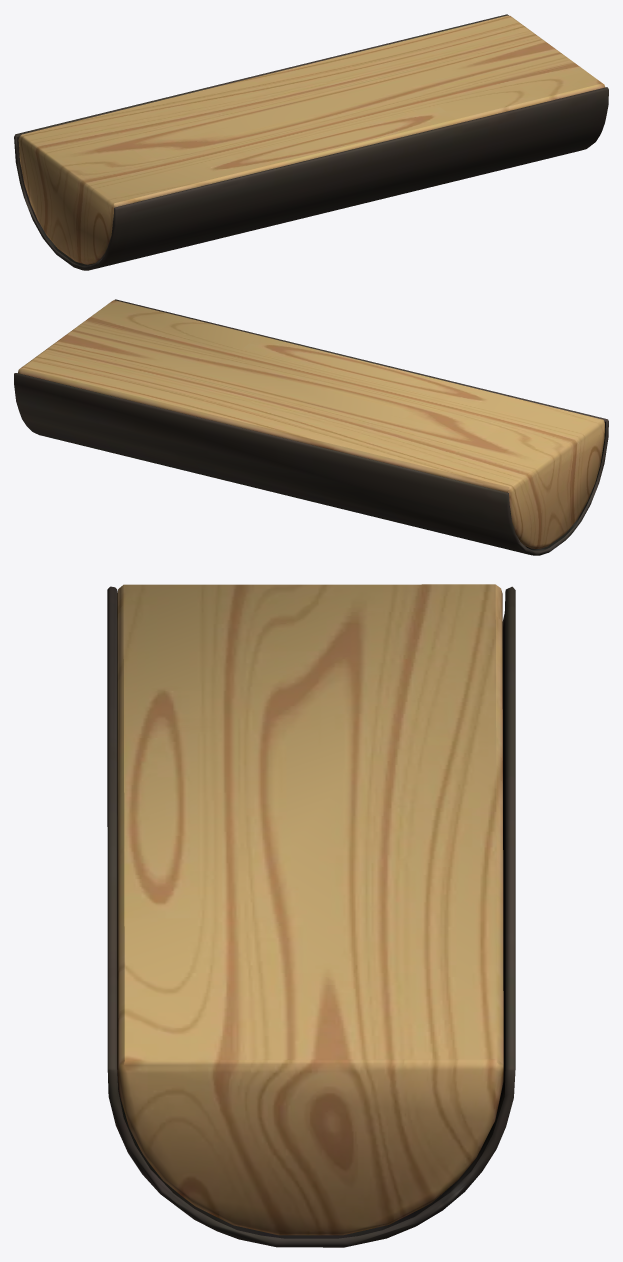
File: log.glb
3 views of the same model, one above another, from view 1: azimuth 30°, elevation 25°; view 2: azimuth 150°, elevation 25°; view 3: azimuth 270°, elevation 25° (orthographic). The views are drawn at different scales.
Visible parts, largest first — view 1: log_Baked_Baked; view 2: log_Baked_Baked; view 3: log_Baked_Baked.
Part boxes in pixels (<box>): log_Baked_Baked: <box>14,14,608,270</box>; log_Baked_Baked: <box>14,299,608,555</box>; log_Baked_Baked: <box>107,584,515,1247</box>.
Size of the model in its own units: 1.06 by 0.1893 by 0.3777.
1 material, 1 textured.
